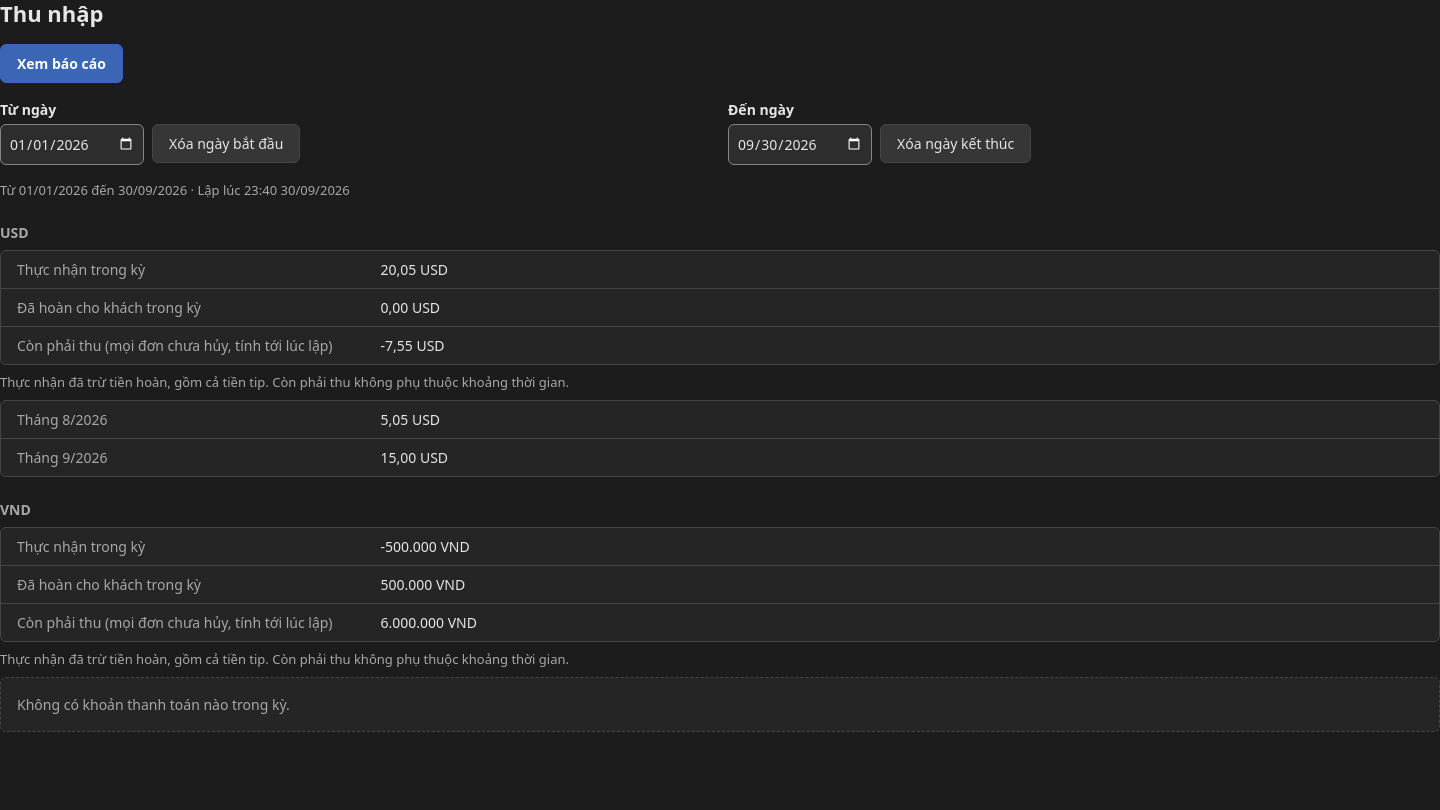
page income_report — a draft the format check rejects › an accepted press afterwards removes the alert and the sentences
Click the button "Xem báo cáo": (62, 63) [0,44,123,82]
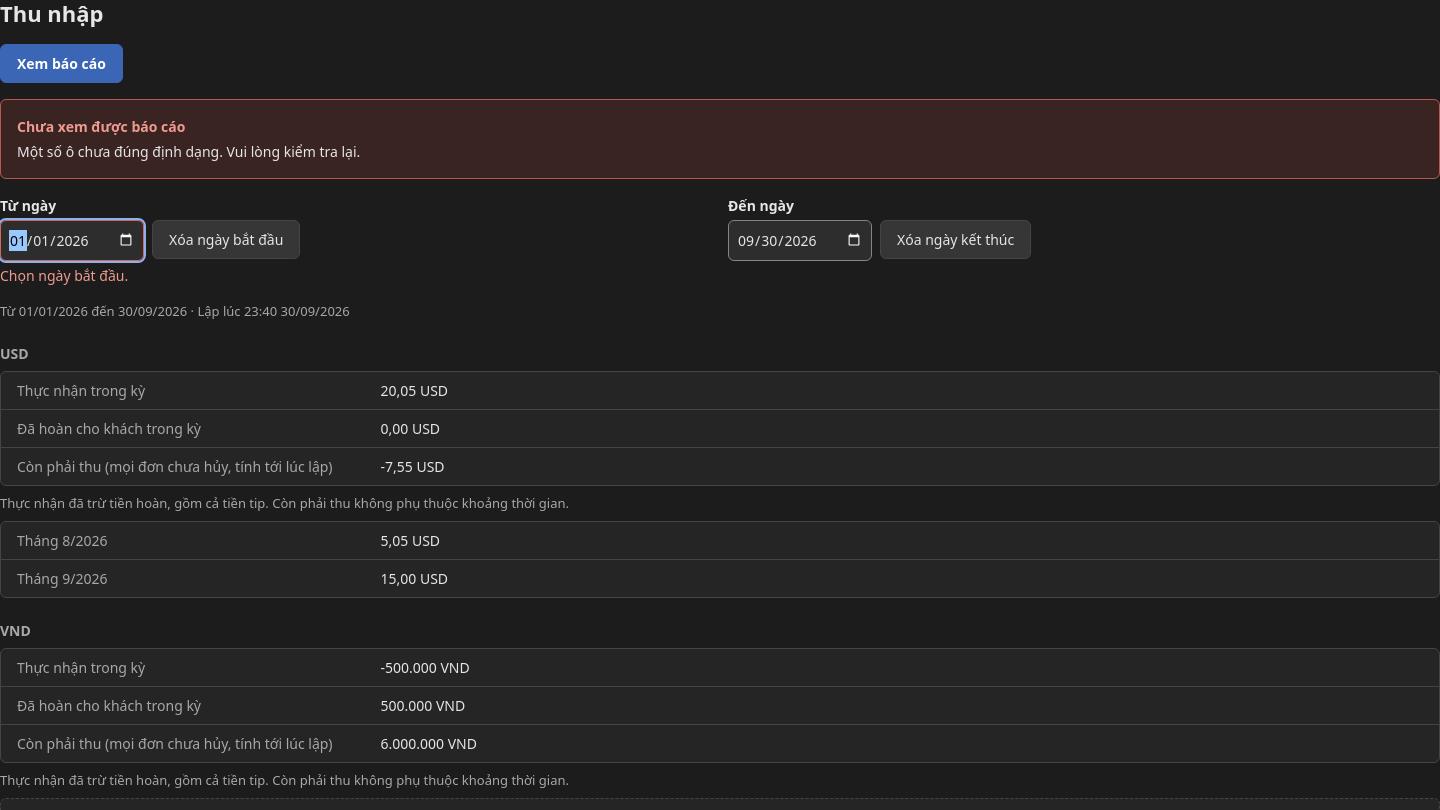
Result: the text "Chọn ngày bắt đầu." is shown at [0,266,128,284]
Click the button "Xem báo cáo": (62, 63) [0,44,123,82]
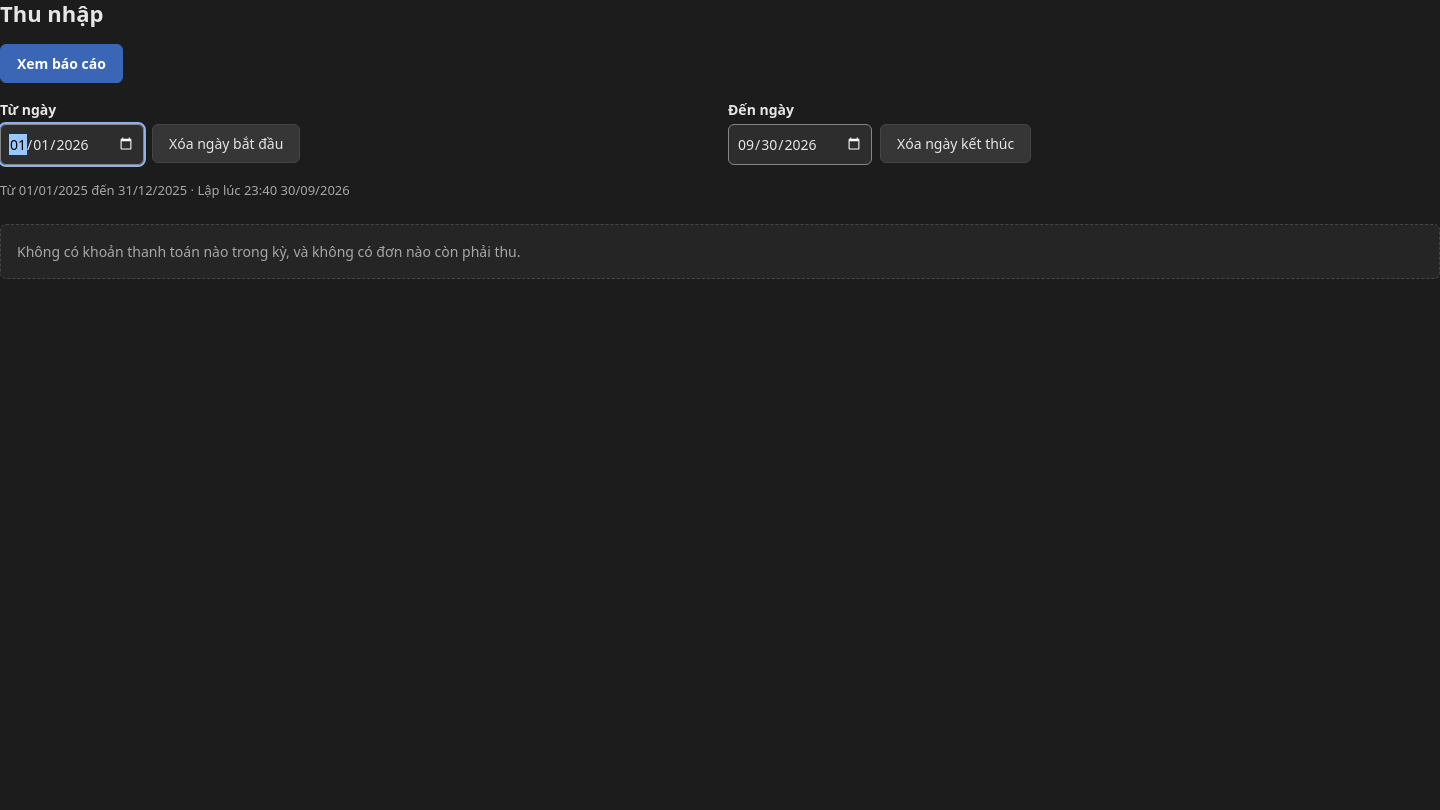
Result: the text "Không có khoản thanh toán nào trong kỳ, và không có đơn nào còn phải thu." is shown at [17,241,520,262]
Result: the text "Chọn ngày bắt đầu." is gone
Result: the message "Chưa xem được báo cáo Một số ô chưa đúng định dạng. Vui lòng kiểm tra lại." is gone
